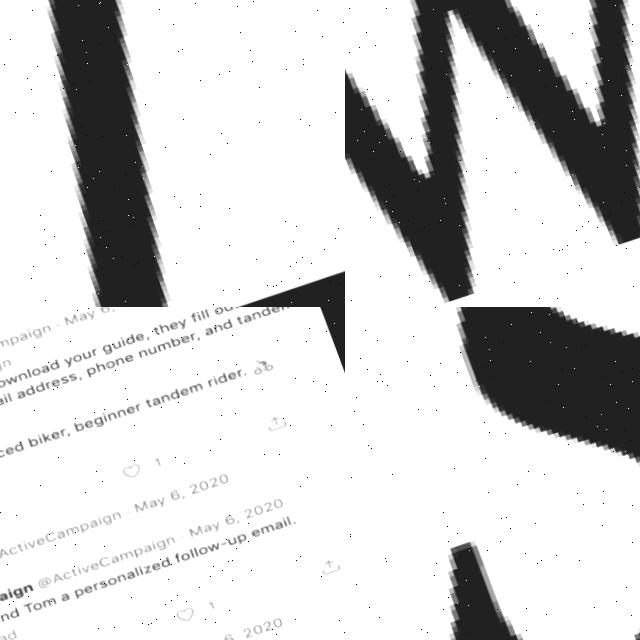2: (166, 485, 179, 498), (219, 628, 232, 640), (222, 510, 234, 521), (96, 307, 109, 312)
A: (47, 569, 62, 581), (77, 309, 88, 319), (39, 361, 49, 372), (14, 387, 24, 398), (53, 527, 64, 537), (146, 495, 156, 506), (124, 567, 134, 578), (17, 329, 27, 339), (203, 322, 213, 332), (240, 310, 250, 320), (149, 393, 159, 403), (86, 516, 96, 526), (108, 551, 118, 561), (140, 540, 150, 550), (200, 519, 210, 529), (57, 590, 67, 600), (271, 517, 281, 527), (0, 544, 7, 556), (0, 588, 5, 599), (0, 631, 5, 640), (0, 393, 3, 404)
B: (25, 432, 38, 445), (71, 417, 84, 430), (168, 332, 179, 344)
C: (40, 527, 56, 541), (95, 552, 109, 564), (58, 567, 71, 578), (5, 543, 17, 554), (0, 445, 5, 456)
D: (10, 437, 24, 451), (121, 329, 134, 343), (46, 356, 59, 369), (21, 381, 34, 394), (32, 378, 45, 391), (166, 384, 179, 397), (157, 552, 170, 565), (3, 626, 16, 639), (220, 314, 231, 326), (215, 368, 226, 380), (6, 604, 17, 616), (258, 307, 269, 313)
E: (81, 415, 93, 427), (178, 330, 190, 341), (48, 427, 60, 438), (123, 401, 135, 412), (177, 383, 189, 394), (167, 317, 178, 327), (2, 443, 13, 453), (150, 558, 160, 569), (134, 329, 144, 339), (49, 375, 59, 385), (123, 350, 133, 360), (225, 367, 235, 377), (34, 534, 44, 544), (87, 558, 97, 568), (81, 582, 91, 592), (249, 524, 259, 534)
F: (171, 548, 180, 560), (188, 308, 197, 319)
G: (153, 535, 166, 549), (99, 340, 112, 353), (91, 412, 104, 425), (98, 511, 111, 524), (10, 584, 23, 597), (30, 325, 41, 337), (0, 358, 3, 372)
H: (157, 318, 168, 330), (93, 357, 104, 369)
I: (211, 371, 217, 382), (148, 536, 154, 547), (280, 512, 286, 523), (26, 326, 32, 336), (118, 333, 124, 343), (194, 308, 200, 318), (0, 391, 6, 401), (36, 431, 42, 441), (100, 409, 106, 419), (5, 586, 11, 596), (135, 562, 141, 572), (20, 538, 26, 548), (95, 512, 101, 522), (74, 563, 80, 572)
K: (39, 428, 50, 441)
L: (0, 0, 345, 307), (24, 365, 30, 375), (4, 390, 10, 400), (131, 563, 137, 573), (284, 511, 290, 521), (187, 544, 193, 553), (190, 543, 196, 552), (198, 307, 204, 315), (201, 307, 207, 314)
M: (62, 309, 77, 324), (186, 378, 202, 391), (257, 519, 273, 532), (185, 521, 201, 534), (62, 522, 79, 534), (155, 337, 171, 349), (116, 546, 132, 558), (39, 594, 55, 606), (132, 498, 146, 510), (0, 335, 8, 347)
N: (210, 319, 223, 330), (20, 580, 32, 591), (0, 355, 11, 366), (39, 321, 49, 332), (163, 532, 174, 542), (114, 570, 125, 580), (16, 369, 26, 379), (113, 353, 123, 363), (136, 345, 146, 355), (105, 408, 115, 418), (115, 405, 125, 415), (158, 390, 168, 400), (110, 508, 120, 518), (249, 307, 259, 316), (0, 610, 7, 620)
O: (103, 355, 115, 367), (104, 573, 117, 584), (29, 364, 41, 375), (29, 599, 41, 610), (177, 548, 189, 559), (195, 542, 207, 553), (70, 350, 80, 360), (212, 307, 222, 311), (0, 377, 4, 385)
P: (233, 528, 247, 542), (8, 332, 19, 344), (84, 363, 95, 375), (71, 585, 83, 596), (131, 544, 141, 555), (77, 519, 87, 529)
R: (234, 364, 243, 374), (44, 377, 52, 387), (188, 328, 196, 338), (58, 424, 66, 434), (133, 399, 141, 409), (205, 374, 213, 384), (90, 578, 98, 588), (89, 346, 97, 354)
S: (345, 307, 640, 640), (65, 368, 77, 380), (96, 576, 107, 586), (58, 372, 68, 382)
T: (20, 598, 33, 612), (150, 322, 158, 333), (234, 311, 242, 321), (142, 395, 150, 405), (15, 540, 23, 550), (68, 564, 76, 574)
U: (146, 342, 156, 353), (225, 533, 235, 543), (80, 348, 90, 356), (110, 338, 120, 346)
V: (25, 537, 35, 547), (78, 561, 88, 571)
W: (345, 0, 640, 307), (2, 372, 18, 384), (205, 538, 219, 550)
Y: (60, 353, 74, 366), (176, 314, 187, 326), (154, 493, 166, 504), (209, 517, 220, 529), (84, 307, 95, 317), (207, 635, 218, 640)
Z: (140, 560, 150, 570)
